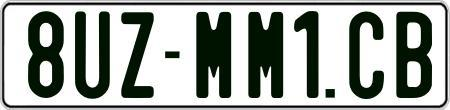1: (292, 11, 322, 104)
8: (27, 11, 63, 102)
B: (394, 11, 435, 101)
C: (347, 11, 386, 99)
M: (193, 9, 234, 98), (245, 10, 282, 100)
U: (73, 9, 111, 103)
Z: (119, 11, 154, 100)
